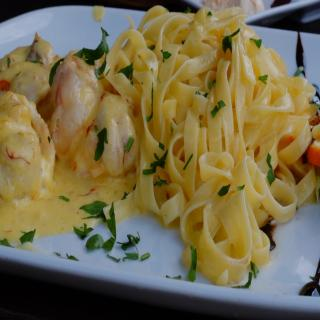Pasta: (0, 4, 320, 284)
